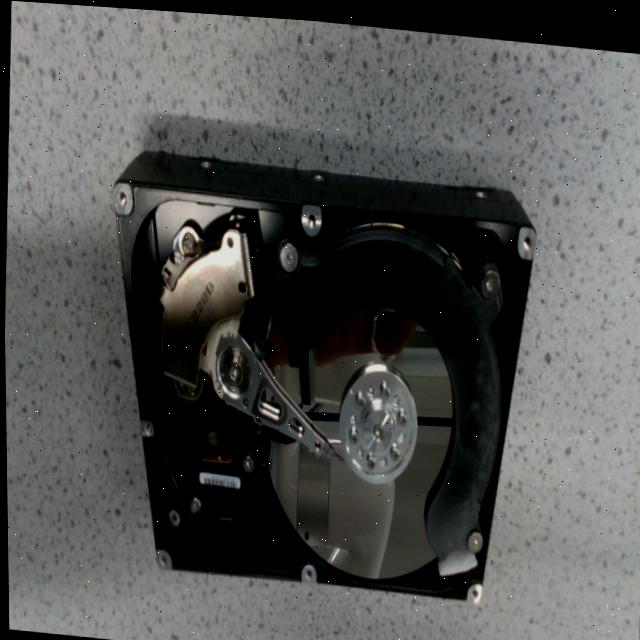actuator arm: (207, 327, 338, 453)
actuator axis: (217, 343, 249, 389)
case: (112, 149, 535, 595)
magnet: (159, 225, 252, 383)
pcb connector: (183, 448, 253, 511)
platter holder: (338, 357, 415, 478)
platter protector: (273, 222, 501, 564)
screw: (479, 263, 499, 292), (279, 238, 297, 268), (466, 524, 481, 546), (185, 492, 199, 513), (240, 449, 253, 469), (388, 437, 398, 458), (362, 447, 374, 464), (396, 403, 406, 421), (379, 377, 389, 393), (347, 422, 357, 438), (354, 386, 363, 402)
